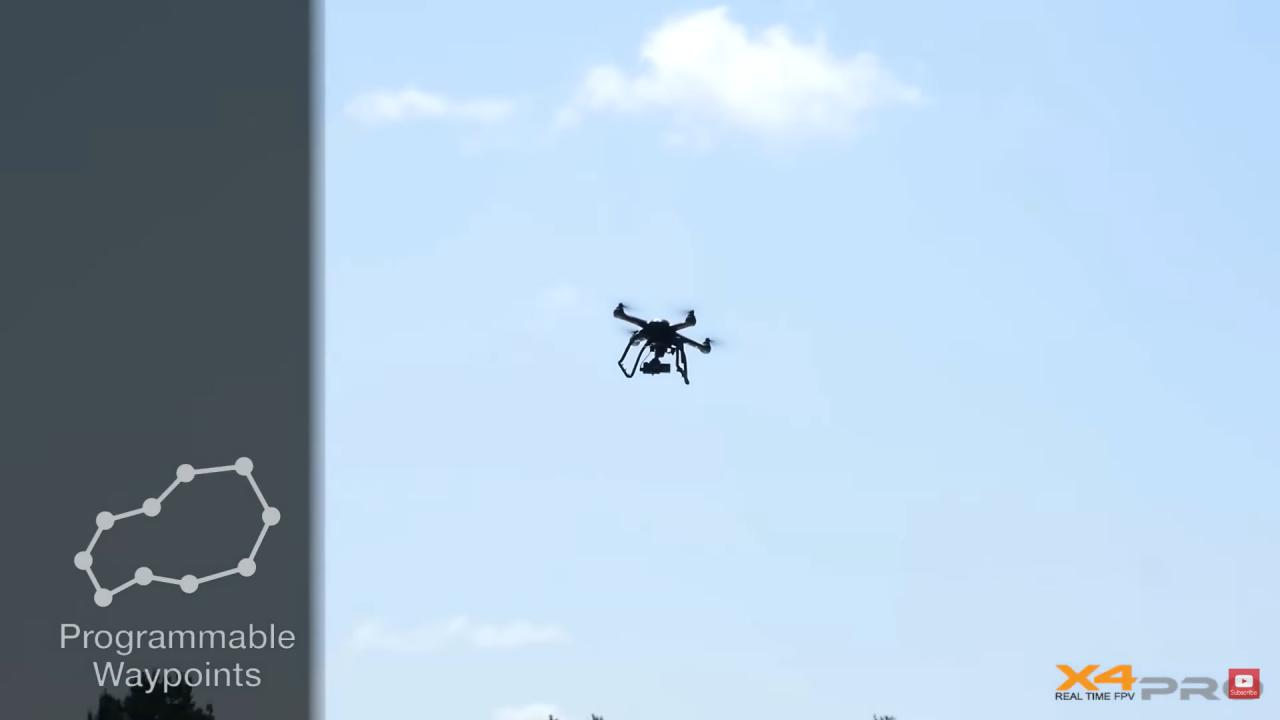Drone: (592, 292, 737, 389)
